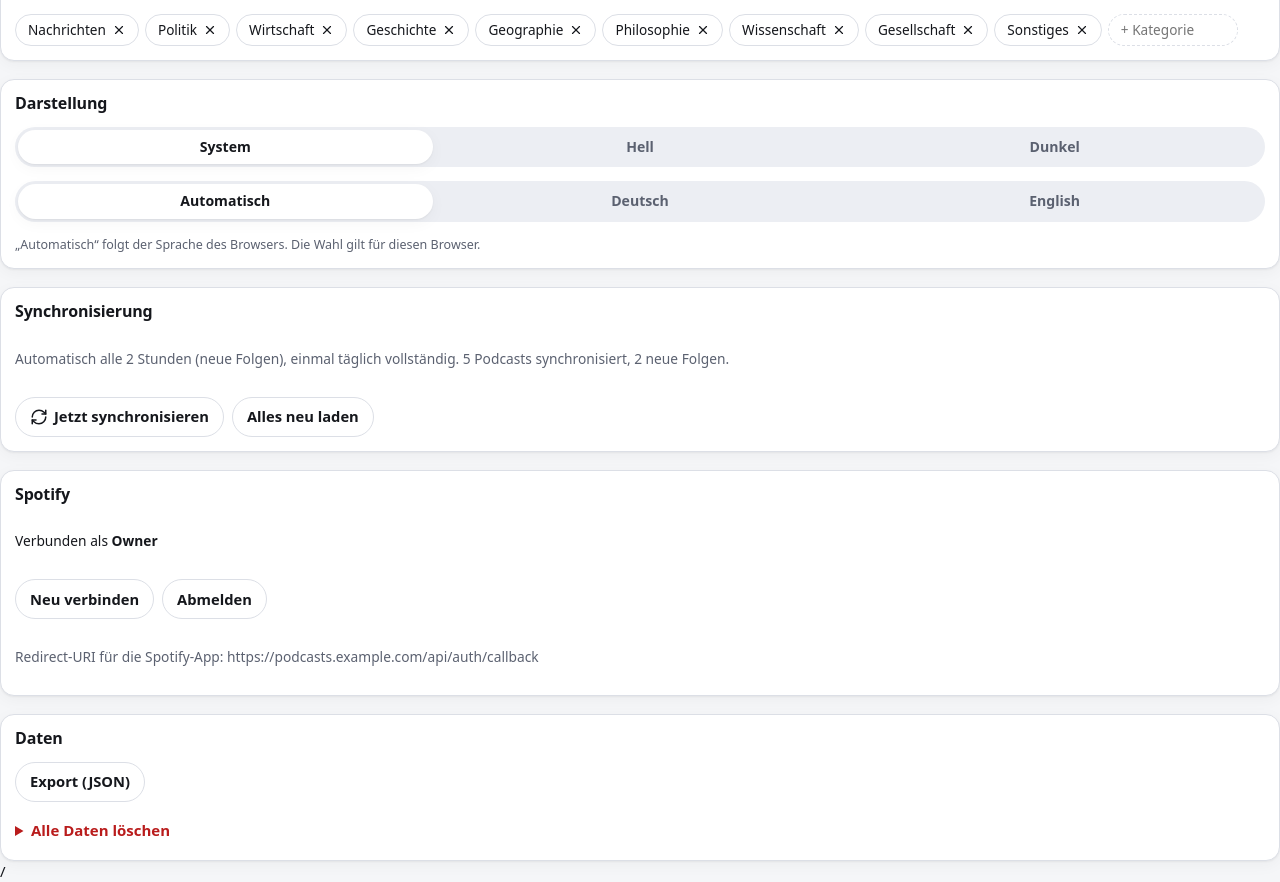
Scenario: SettingsPage › explains why deleting all data failed
(page scrolled)
Click the heading "Alle Daten löschen" at (100, 830), box [31, 820, 170, 840]
(page scrolled)
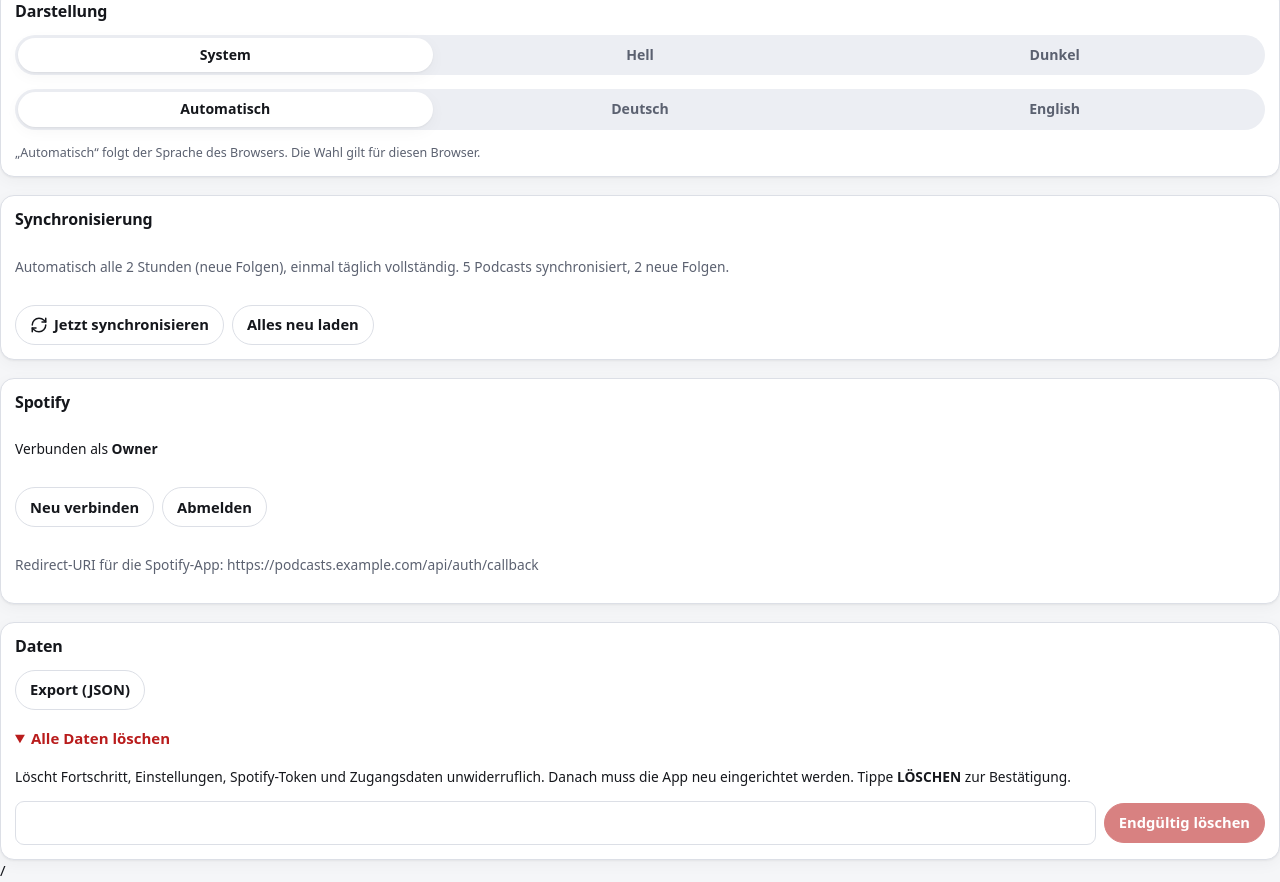
Type "LÖSCHEN" into the field named "Bestätigung" at (555, 823), box [15, 801, 1096, 845]
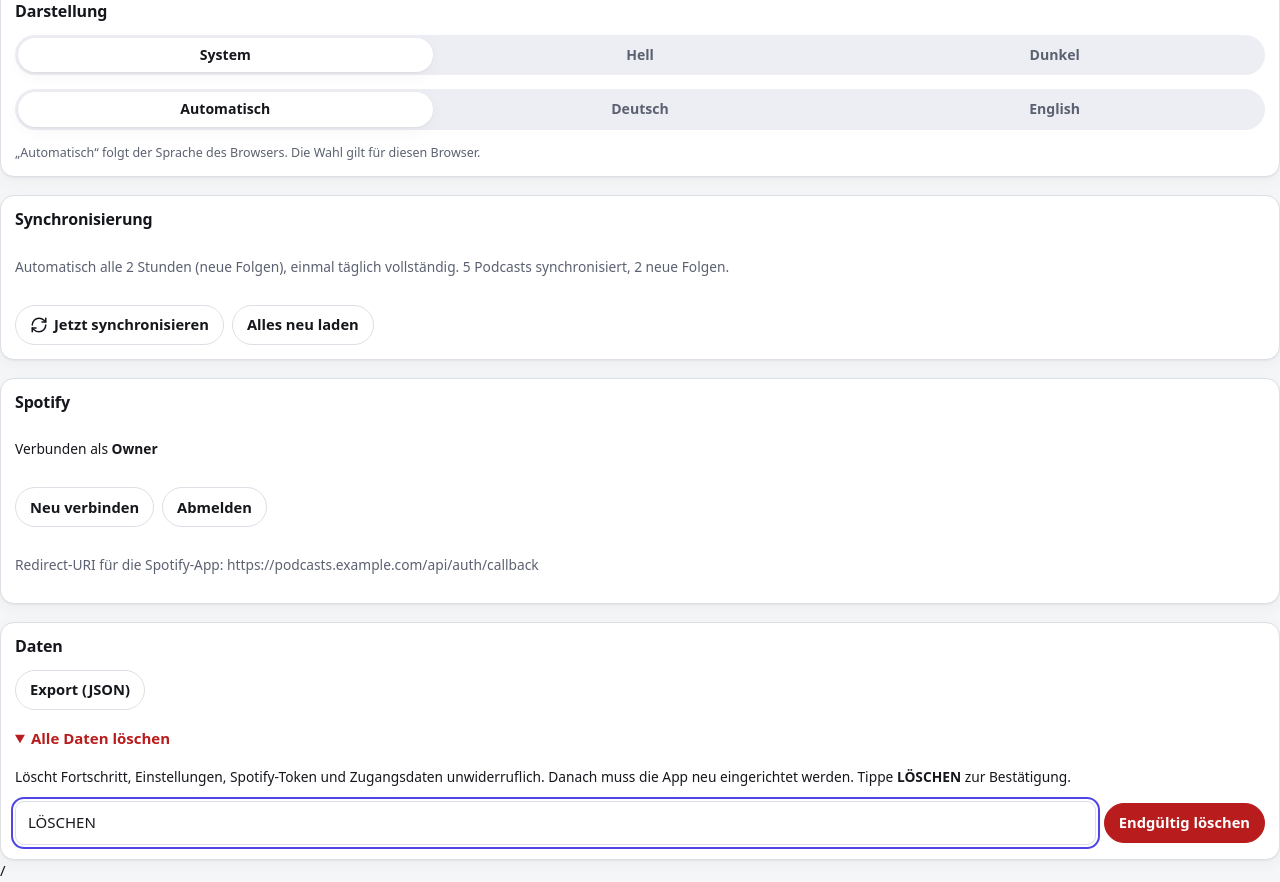
Click the button "Endgültig löschen" at (1184, 823), box [1104, 803, 1265, 843]
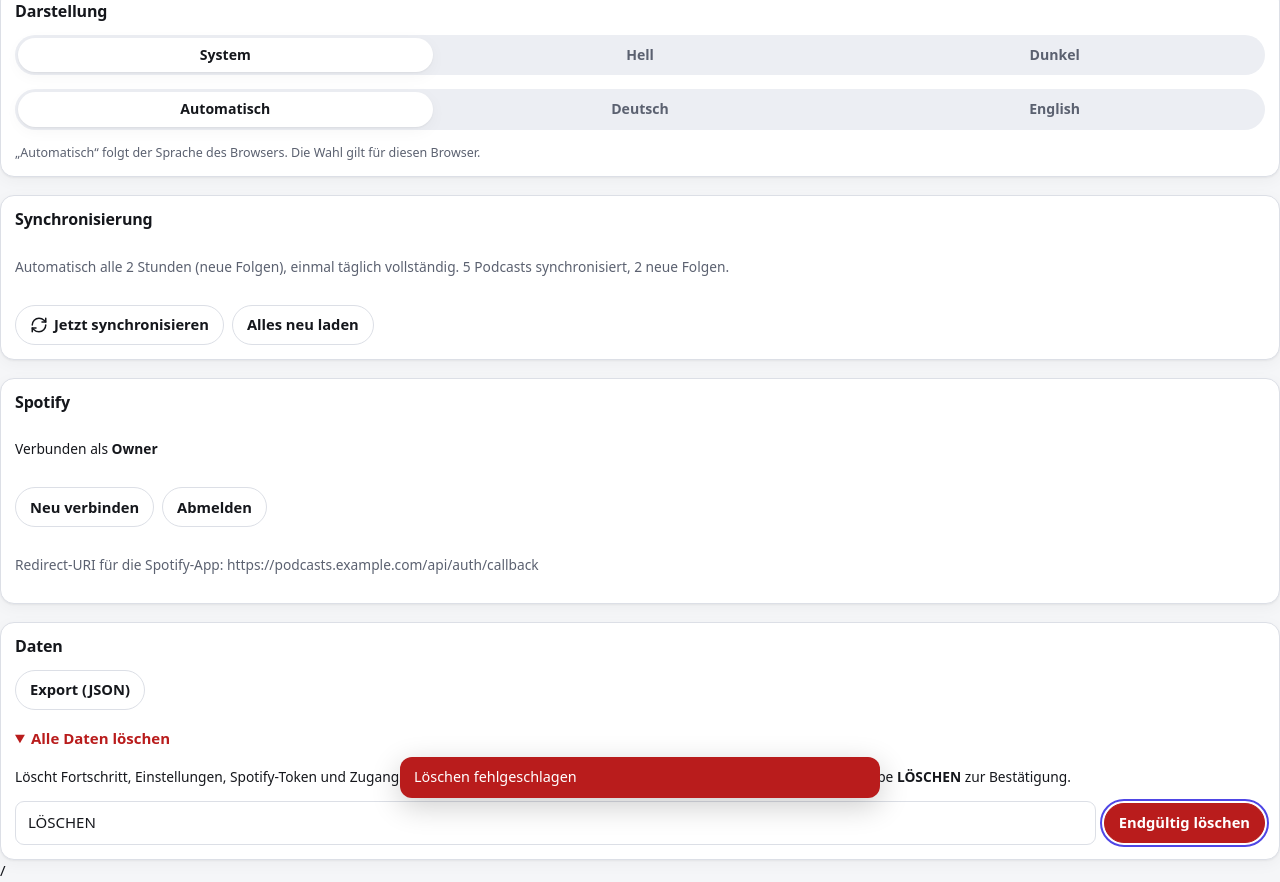
Result: the text "Löschen fehlgeschlagen" is shown at [414, 767, 577, 786]
